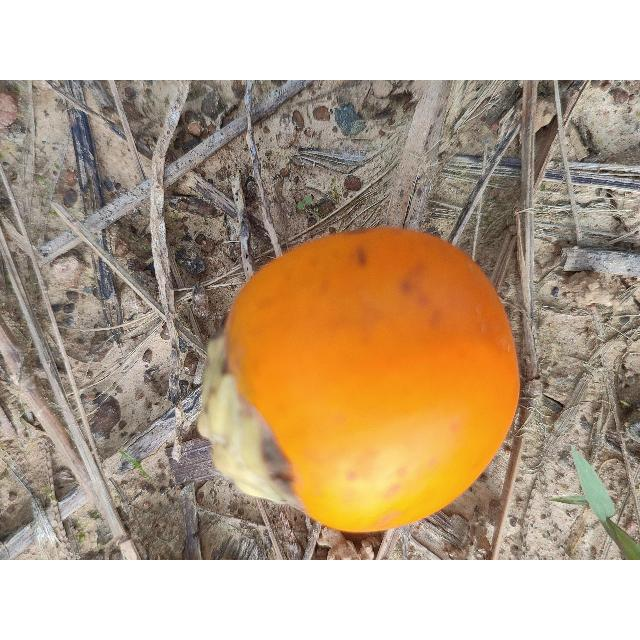good: (198, 227, 521, 536)
